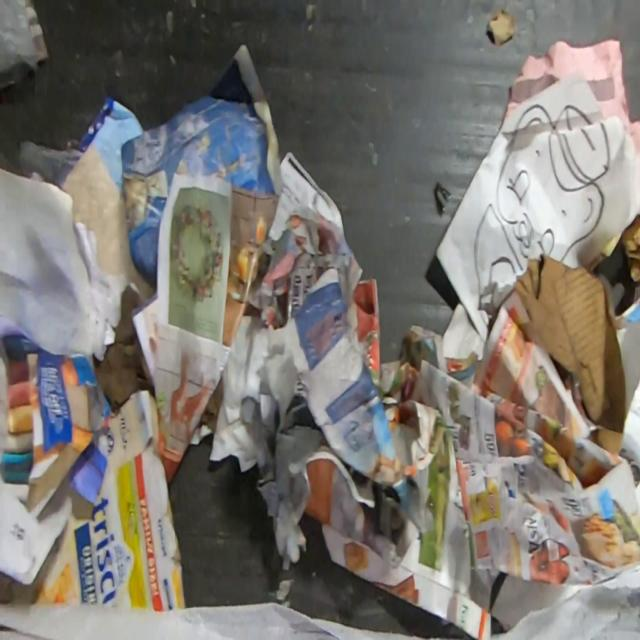cardboard: (0, 387, 186, 612), (0, 308, 114, 587), (513, 251, 628, 457)
soft_plastic: (19, 140, 83, 188)
